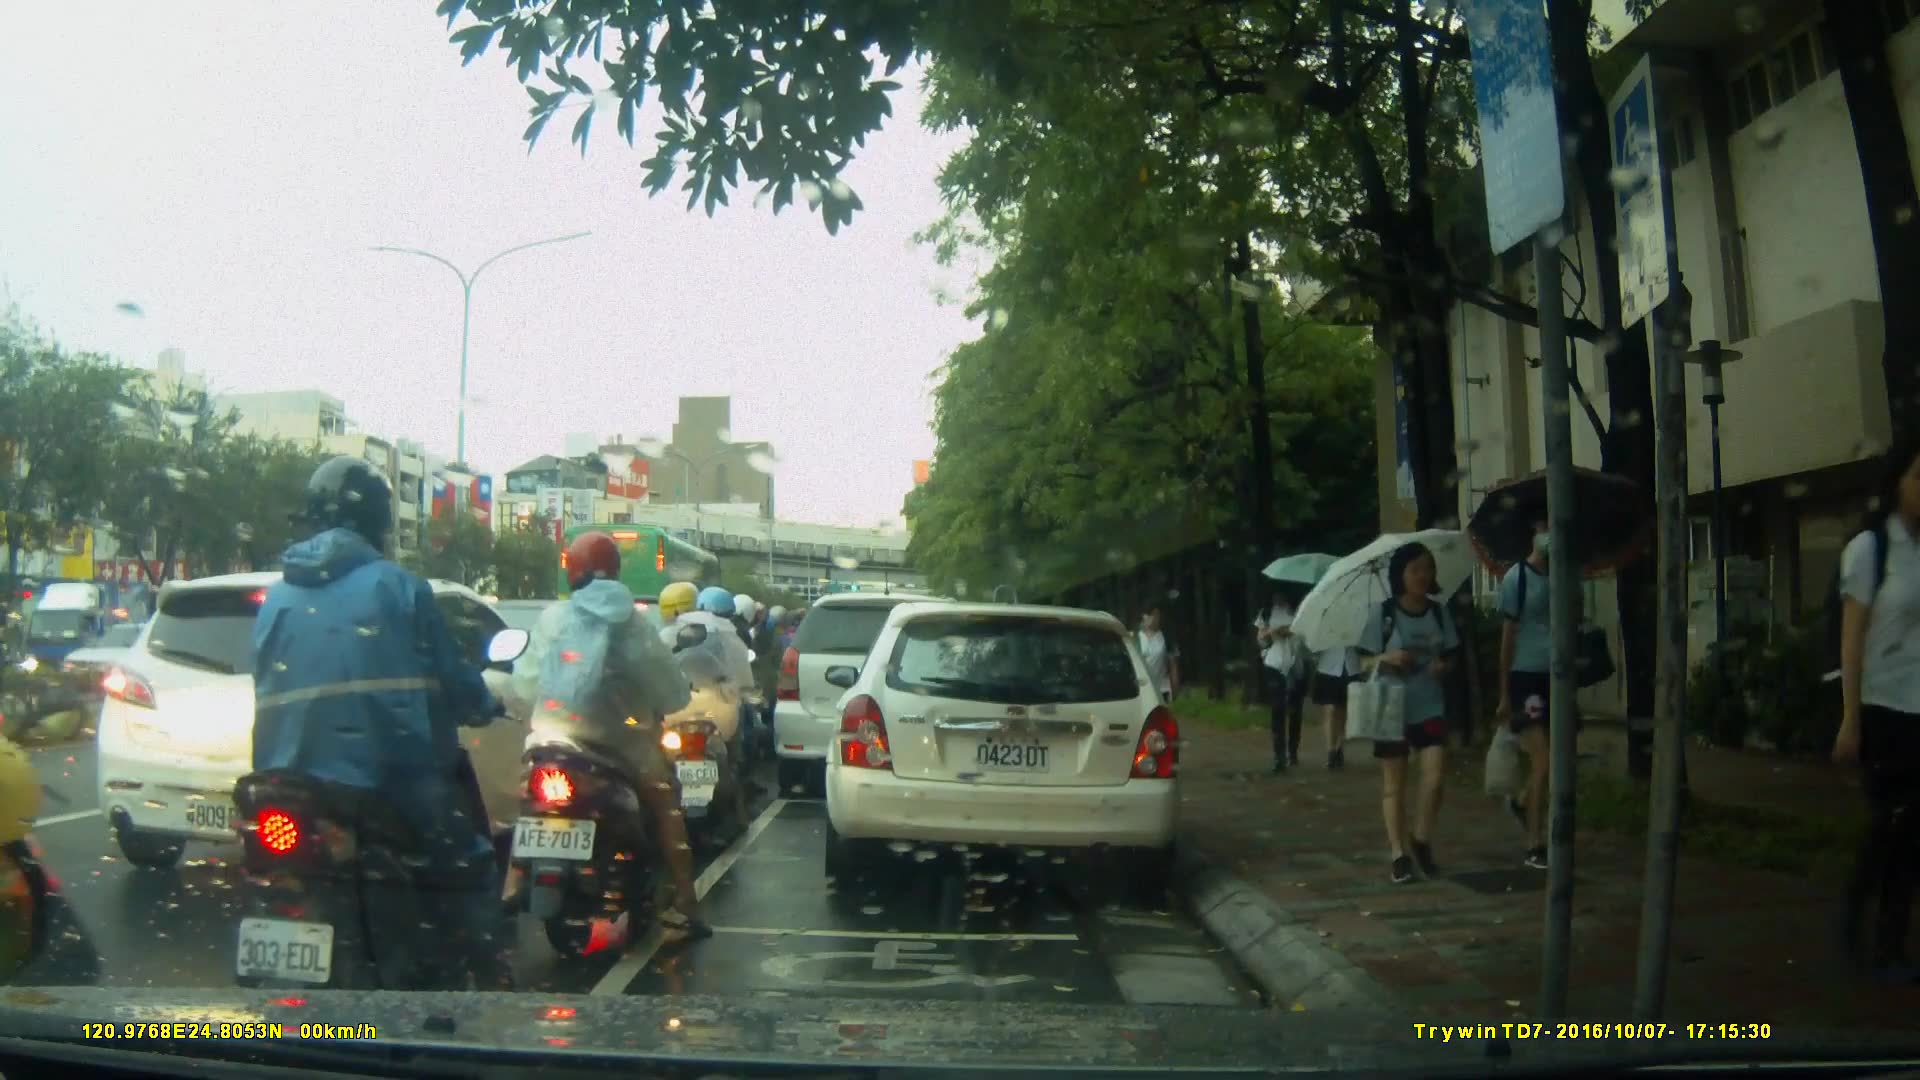pedestrian: (1793, 441, 1911, 973), (1337, 532, 1472, 902), (1487, 497, 1620, 874), (1310, 563, 1366, 778), (1257, 569, 1315, 774), (1125, 592, 1187, 768)
rider: (221, 459, 506, 1038), (504, 533, 734, 946), (631, 587, 770, 852), (672, 593, 764, 791)
vehicle: (93, 569, 616, 883), (822, 604, 1187, 883), (774, 595, 995, 802), (565, 523, 746, 660), (20, 576, 199, 697)
